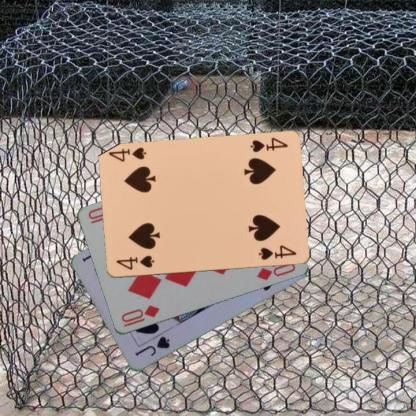10d: (118, 303, 160, 329)
4s: (247, 135, 289, 154), (114, 253, 156, 271)
Js: (132, 334, 171, 358)
